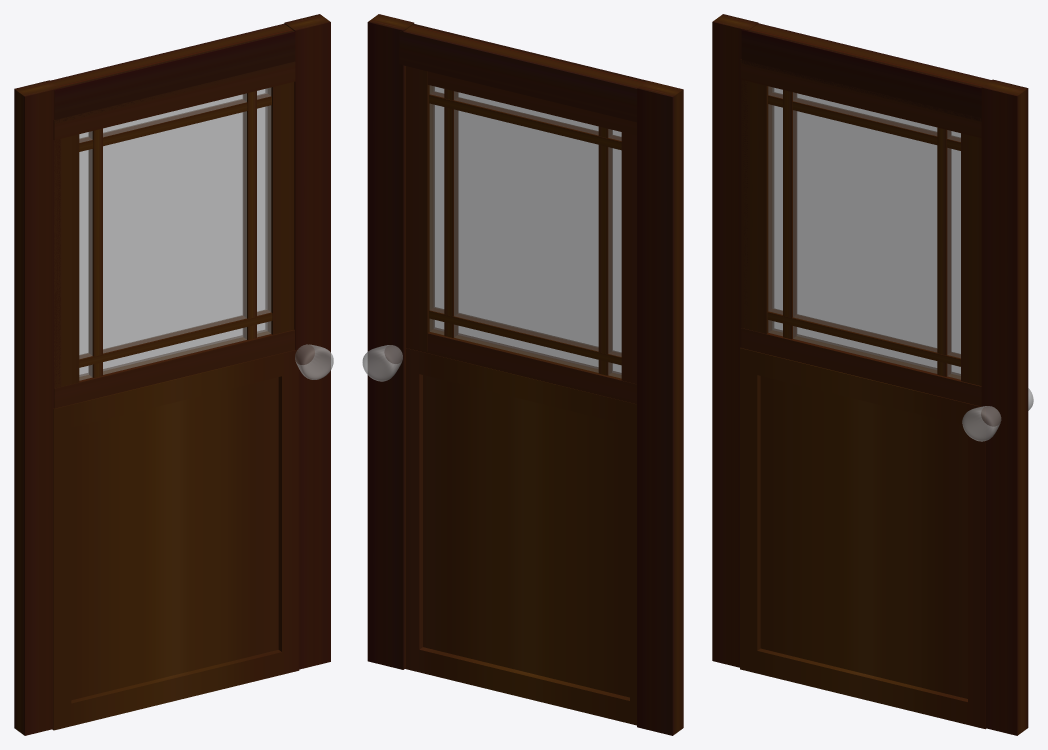
The model's file is fancy_front_door.glb.
The picture shows the model from 3 angles, left to right: view 1: azimuth 30°, elevation 25°; view 2: azimuth 150°, elevation 25°; view 3: azimuth 330°, elevation 25°; orthographic projection.
Parts seen in each view (by area): view 1: Object_3, Object_2, Object_4; view 2: Object_3, Object_2, Object_4; view 3: Object_3, Object_2, Object_4.
Part boxes in pixels (left/top/right/bottom): Object_3: left=14, top=14, right=330, bottom=735; Object_2: left=79, top=87, right=271, bottom=380; Object_4: left=295, top=344, right=333, bottom=379; Object_3: left=367, top=14, right=683, bottom=735; Object_2: left=429, top=85, right=621, bottom=378; Object_4: left=362, top=345, right=402, bottom=381; Object_3: left=712, top=14, right=1028, bottom=735; Object_2: left=768, top=86, right=960, bottom=379; Object_4: left=962, top=388, right=1033, bottom=441.
Bounding box in the file's own units: 4.07 × 8.16 × 0.9821.
Materials: 3 (1 with a texture image).
